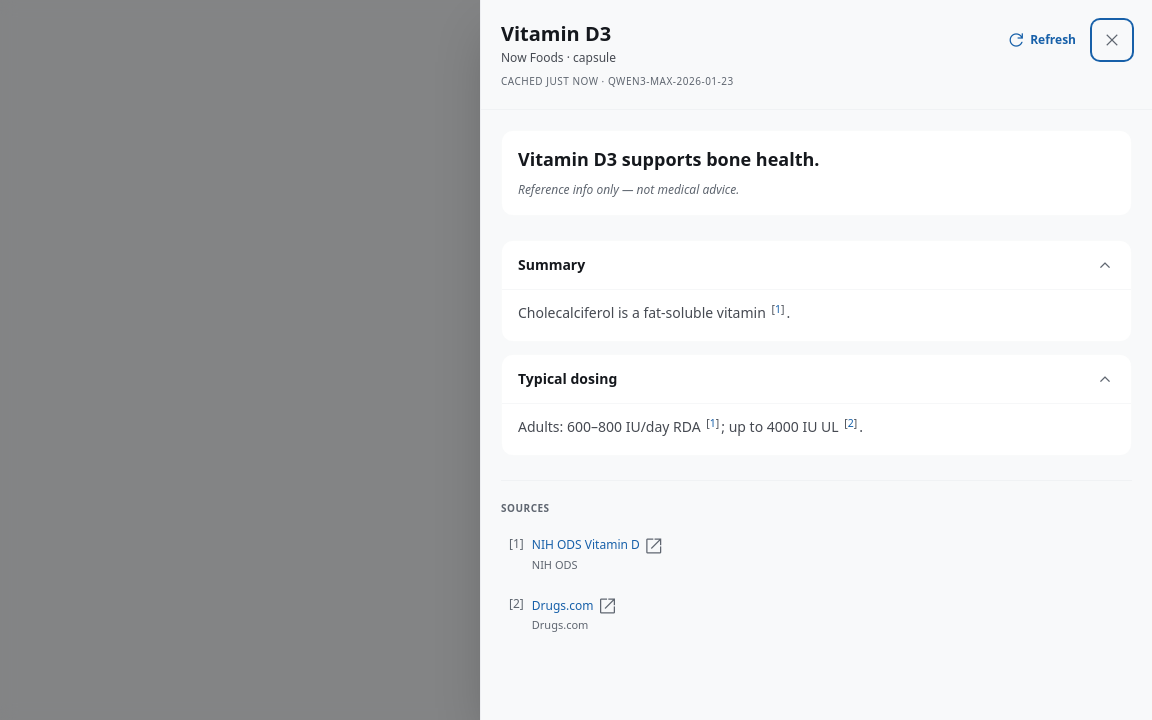
it: DossierDrawer › shows the refresh button on a cached dossier and refetches when clicked
Expected: the text "Vitamin D3 supports bone health." is shown, [518, 147, 819, 171]
Click the button with aria-label "refresh dossier". click: [1041, 40]
box: [994, 20, 1088, 60]
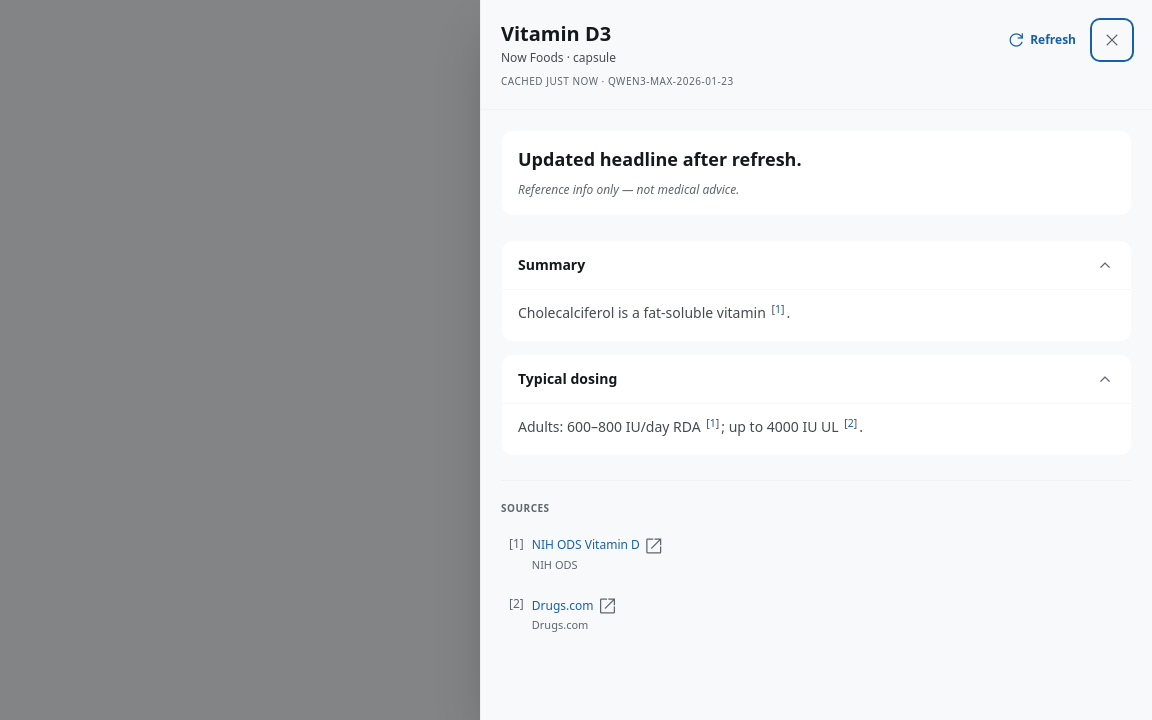
Now the text "Updated headline after refresh." is shown, box [518, 147, 802, 171]
